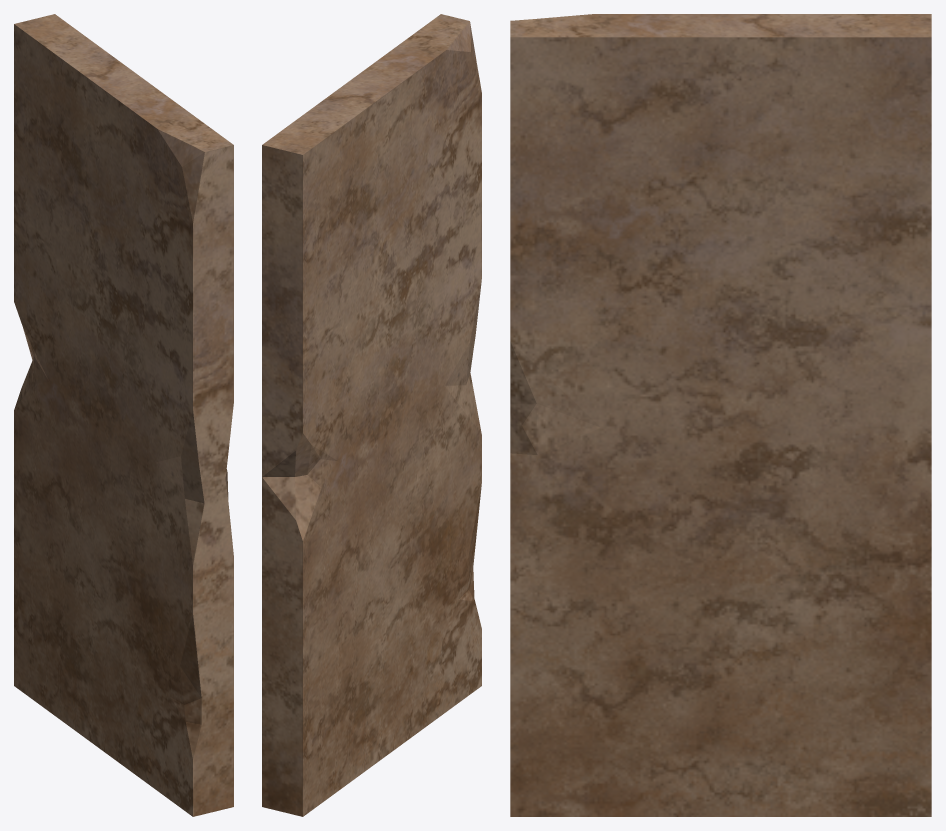
Rendered from Temple Door2.fbx.
3 views of the same model, side by side, from view 1: azimuth 30°, elevation 25°; view 2: azimuth 150°, elevation 25°; view 3: azimuth 270°, elevation 25° (orthographic). The views are drawn at different scales.
Parts seen in each view (by area): view 1: Porta 1.001; view 2: Porta 1.001; view 3: Porta 1.001.
Part boxes in pixels (x1=…): Porta 1.001: x1=14, y1=14, x2=233, y2=816; Porta 1.001: x1=262, y1=14, x2=481, y2=816; Porta 1.001: x1=510, y1=14, x2=931, y2=816.
Size of the model in its own units: 40.9 by 627 by 307.
1 material, 1 textured.
